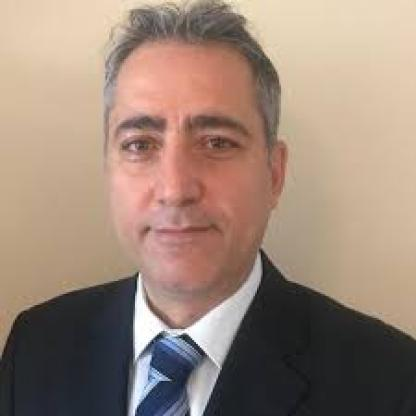person: (100, 5, 288, 298)
